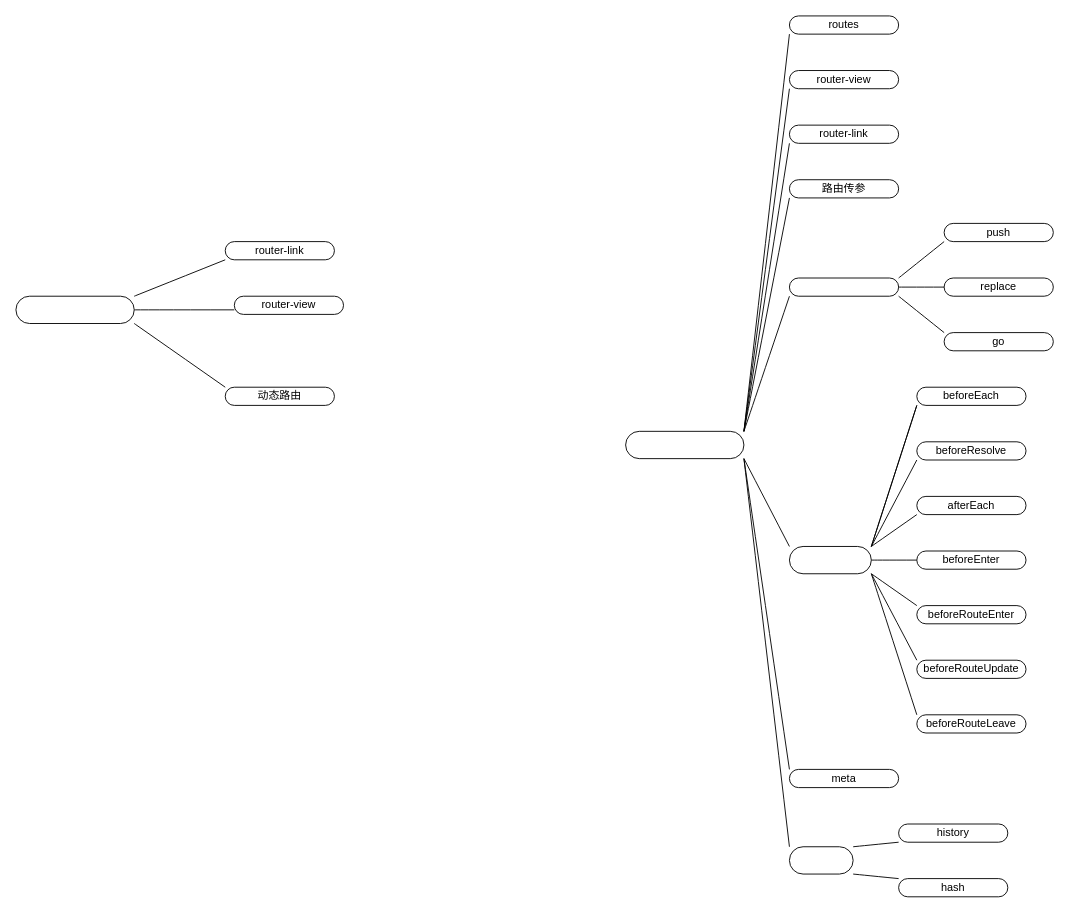
Image size: 1069x913. Some labels were removed from this diagram. Each missing label, with the box of its shape:
mode: (789, 846, 853, 874)
router: (789, 277, 899, 296)
Vue Router v3.x: (625, 430, 744, 459)
Vue Router v4.x: (15, 295, 134, 324)
路由守卫: (789, 546, 871, 574)
